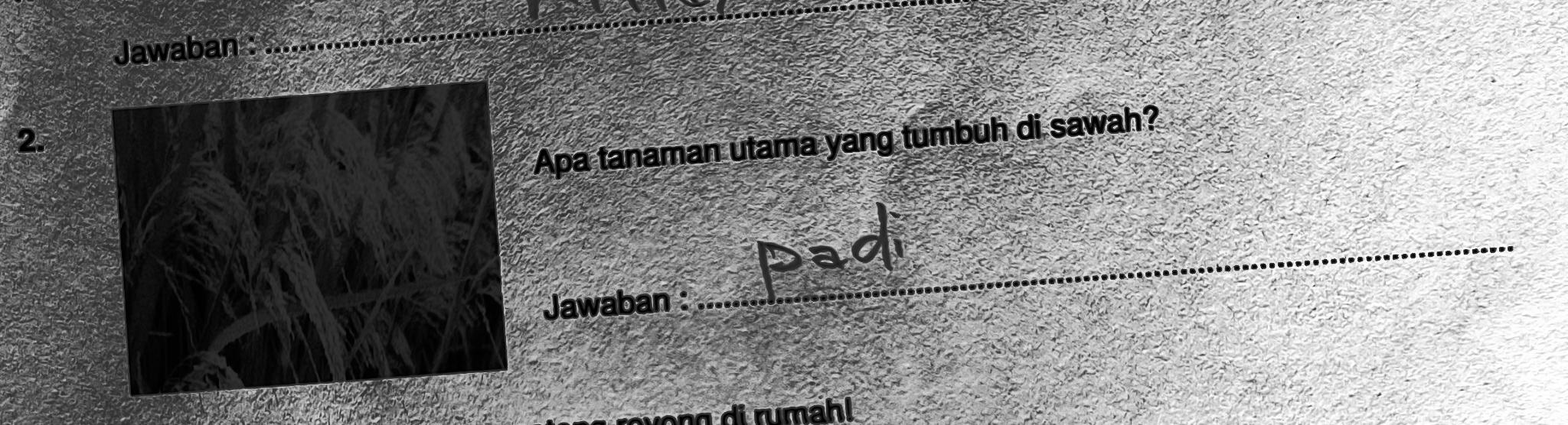jawaban: (752, 195, 911, 299)
